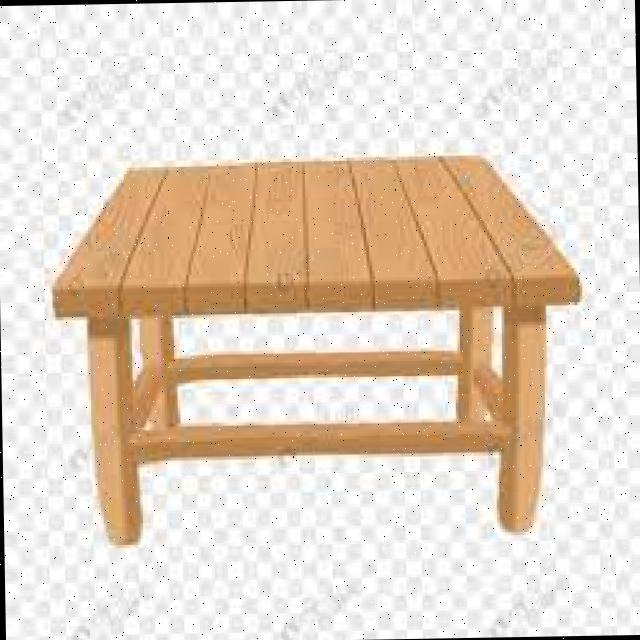Table: (36, 135, 588, 549)
